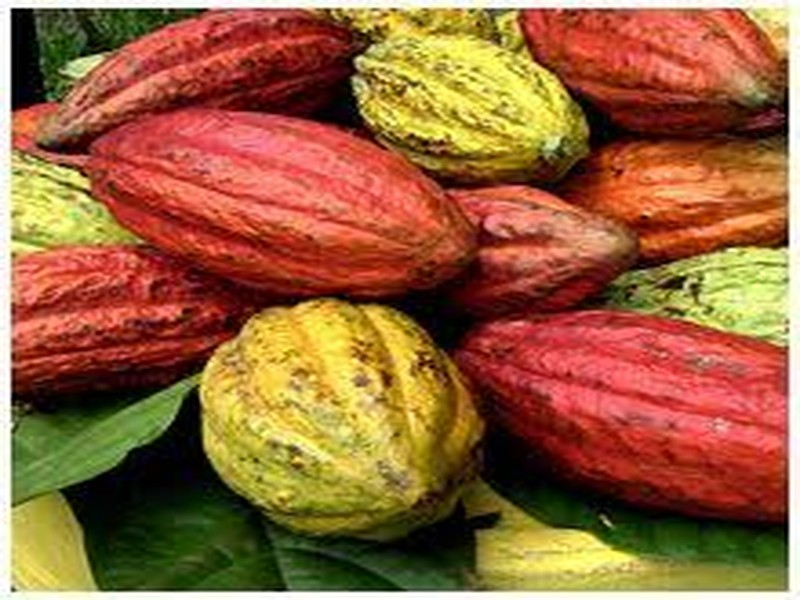Cacaopod: (89, 106, 481, 301)
